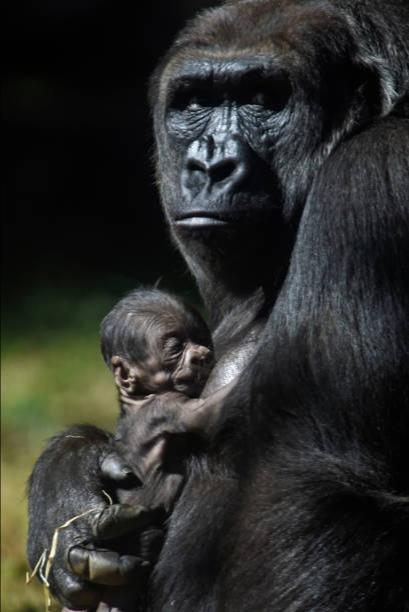gorille_Autres: (20, 4, 409, 604), (75, 262, 233, 462)
